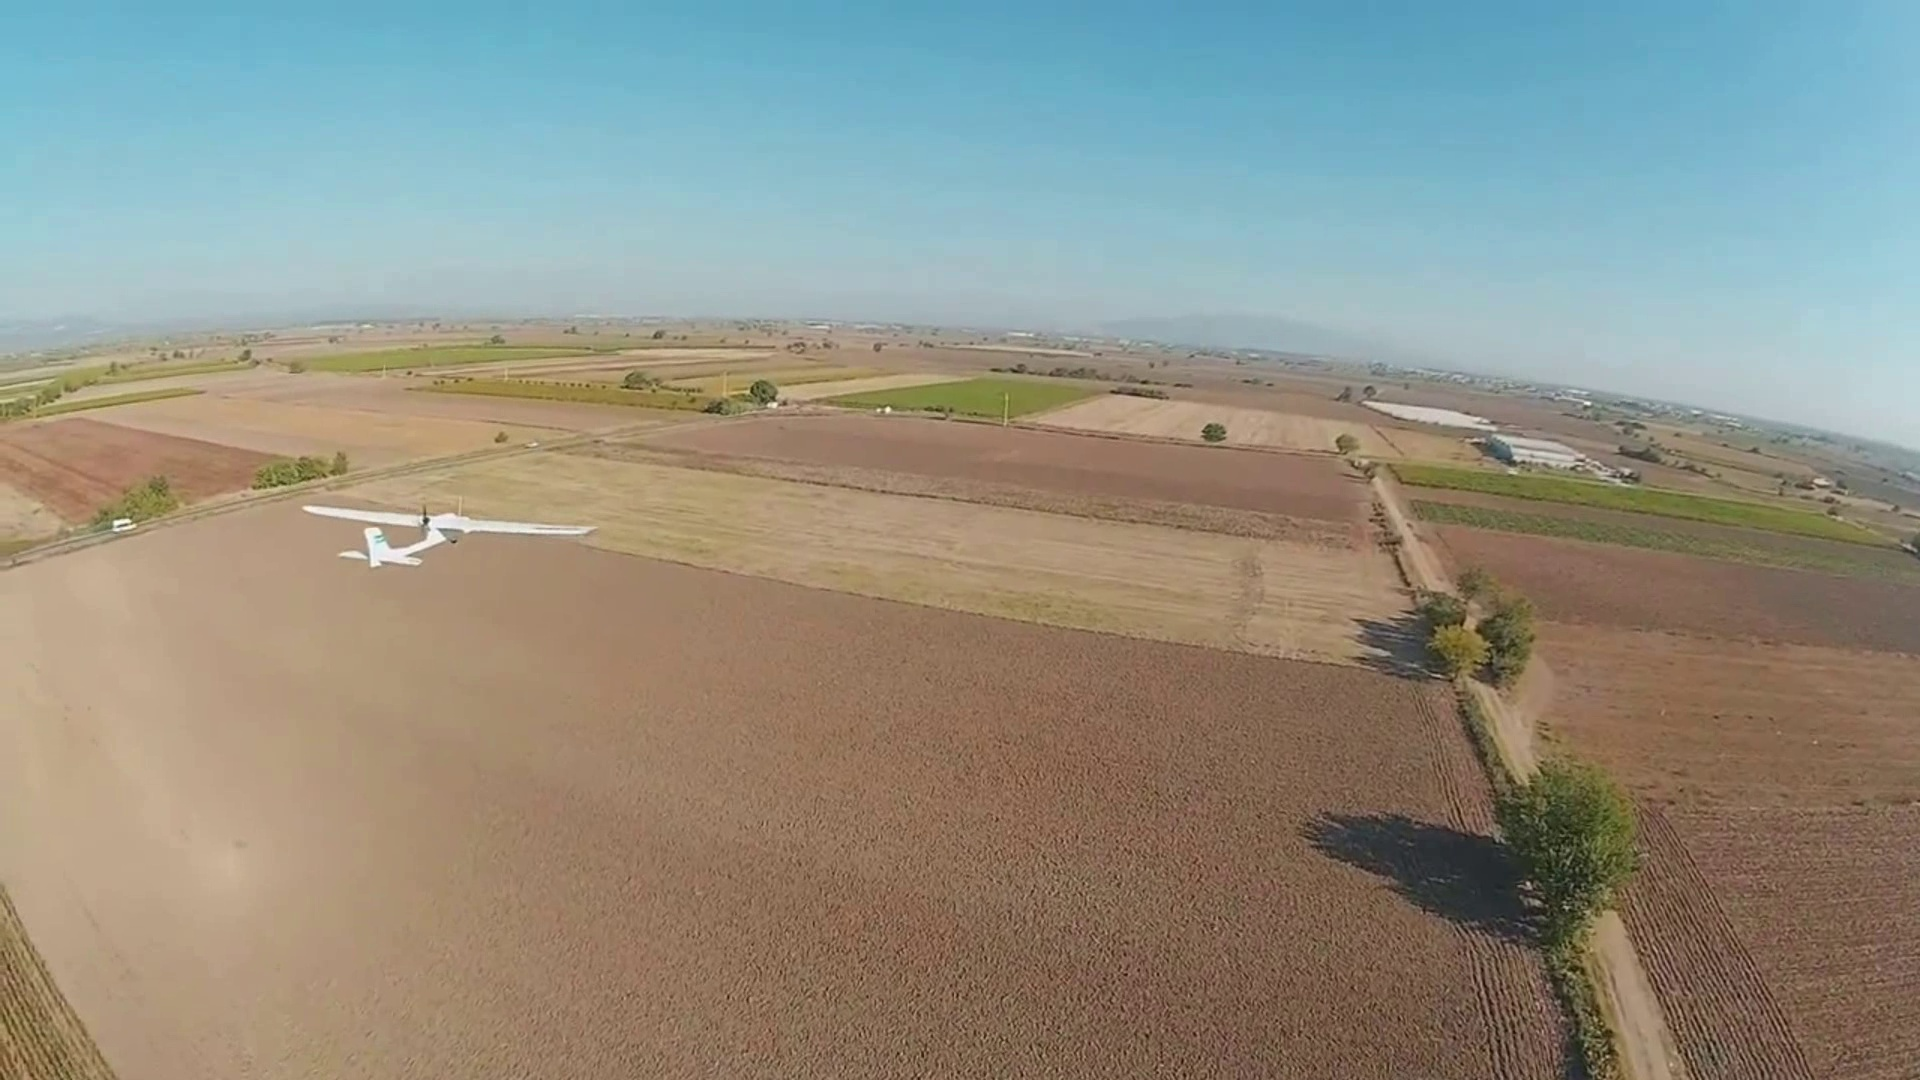airplane: (301, 506, 595, 564), (342, 508, 469, 568)
